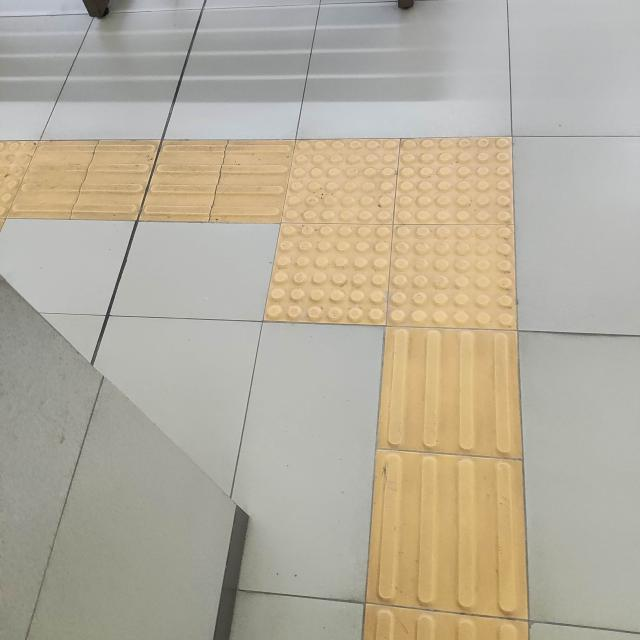kiri: (112, 111, 617, 397)
